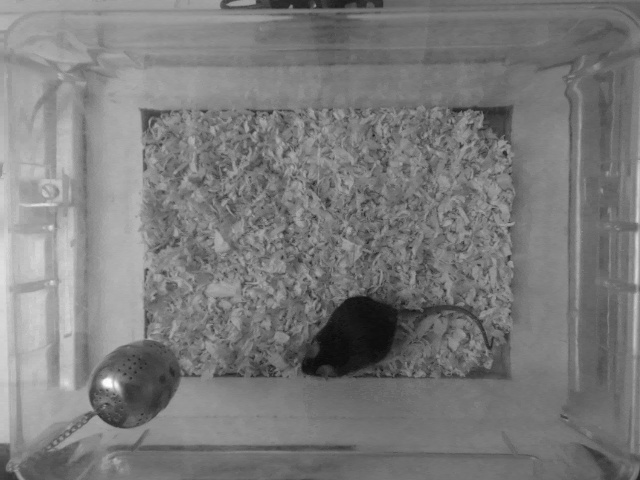mice: (286, 293, 495, 380)
